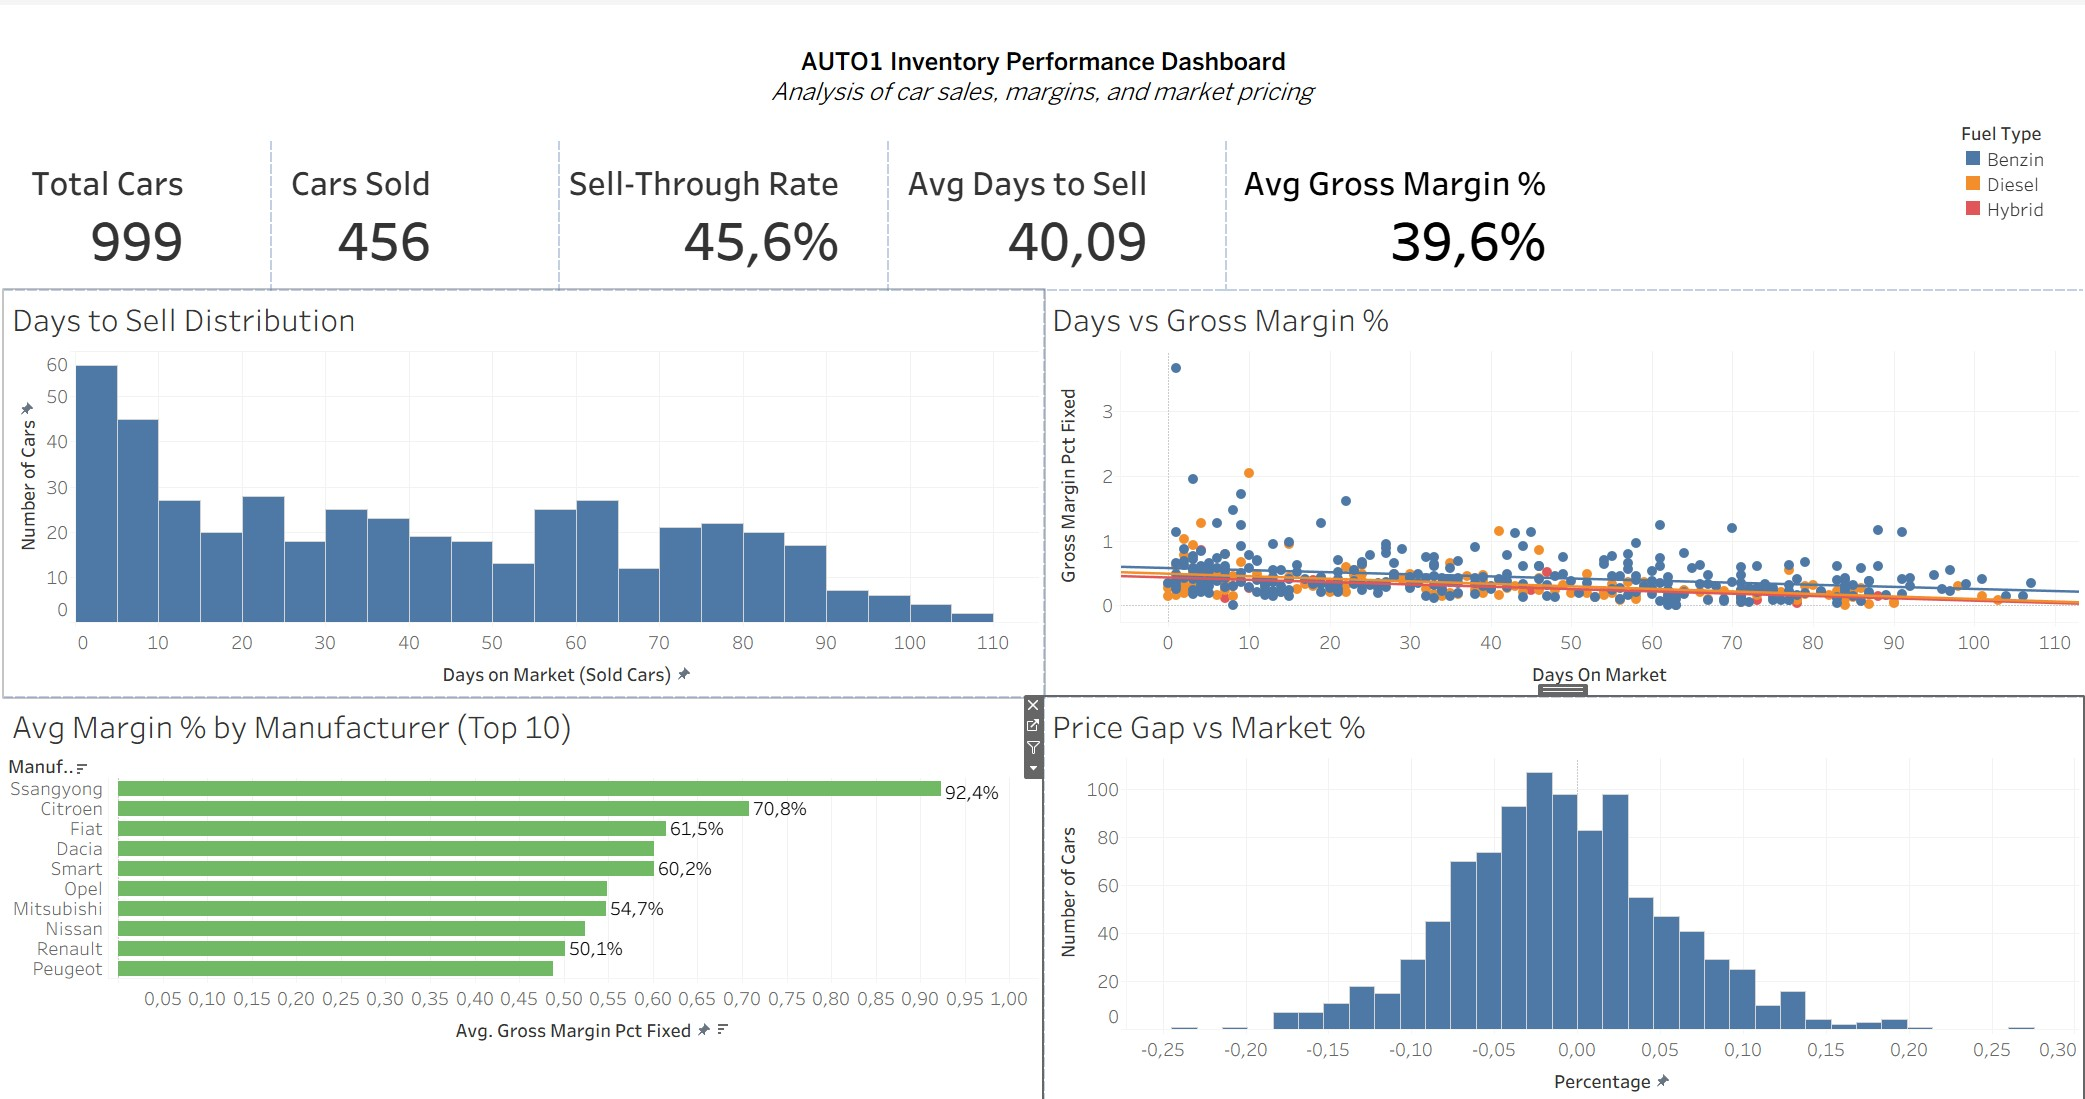

The page's visual inventory and layout, read from the dashboard file:
{"tool":"tableau","page":{"name":"AUTO1 Inventory Performance Dashboard","canvas":[1000,1000],"units":"permille","ordinal":0},"visuals":[{"type":"text","box":[3.8,7.2,992.4,115.6]},{"type":"legend","title":"Days vs Gross Margin %","param":"[federated.0xnbssg16usufj17br41a1b5de7s].[none:fuel_type:nk]","box":[936,100.3,48.2,98.5]},{"type":"worksheet","title":"KPI – Total Cars","mark":"Text","box":[3.8,122.9,127.4,134.8]},{"type":"worksheet","title":"KPI – Cars Sold","mark":"Text","box":[131.2,122.9,137.5,134.8]},{"type":"worksheet","title":"Sell-Through Rate","mark":"Text","box":[268.7,122.9,157,134.8]},{"type":"worksheet","title":"KPI – Avg Days to Sell","mark":"Text","box":[425.8,122.9,161.3,134.8]},{"type":"worksheet","title":"Average Gross Margin %","mark":"Text","box":[587.1,122.9,409.1,134.8]},{"type":"worksheet","title":"Days to Sell Distribution","mark":"Automatic","rows":["days_on_market"],"cols":["Days On Market (bin)"],"box":[3.8,257.6,496.2,367.6]},{"type":"worksheet","title":"Days vs Gross Margin %","mark":"Circle","rows":["Calculation_2740440374929489926"],"cols":["days_on_market"],"box":[500,257.6,496.2,367.6]},{"type":"worksheet","title":"Avg Margin % by Manufacturer (Top 10)","mark":"Automatic","rows":["manufacturer"],"cols":["Calculation_2740440374929489926"],"box":[3.8,625.2,496.2,367.6]},{"type":"worksheet","title":"Price Gap vs Market %","mark":"Automatic","rows":["Calculation_2740440374937522183"],"cols":["Price Gap % Fixed (bin)"],"box":[500,625.2,496.2,367.6]}]}

Visuals, with their boxes on the dashboard's canvas, which has no fixed pixel size, in thousandths of its width and height (x1, y1, x2, y2). These are canvas units, not pixel positions in the 2085x1099 screenshot, which may show the page scaled, cropped or inside an application window:
text: <bbox>4, 7, 996, 123</bbox>
"Days vs Gross Margin %" legend: <bbox>936, 100, 984, 199</bbox>
"KPI – Total Cars" worksheet (Text marks): <bbox>4, 123, 131, 258</bbox>
"KPI – Cars Sold" worksheet (Text marks): <bbox>131, 123, 269, 258</bbox>
"Sell-Through Rate" worksheet (Text marks): <bbox>269, 123, 426, 258</bbox>
"KPI – Avg Days to Sell" worksheet (Text marks): <bbox>426, 123, 587, 258</bbox>
"Average Gross Margin %" worksheet (Text marks): <bbox>587, 123, 996, 258</bbox>
"Days to Sell Distribution" worksheet: <bbox>4, 258, 500, 625</bbox>
"Days vs Gross Margin %" worksheet (Circle marks): <bbox>500, 258, 996, 625</bbox>
"Avg Margin % by Manufacturer (Top 10)" worksheet: <bbox>4, 625, 500, 993</bbox>
"Price Gap vs Market %" worksheet: <bbox>500, 625, 996, 993</bbox>
